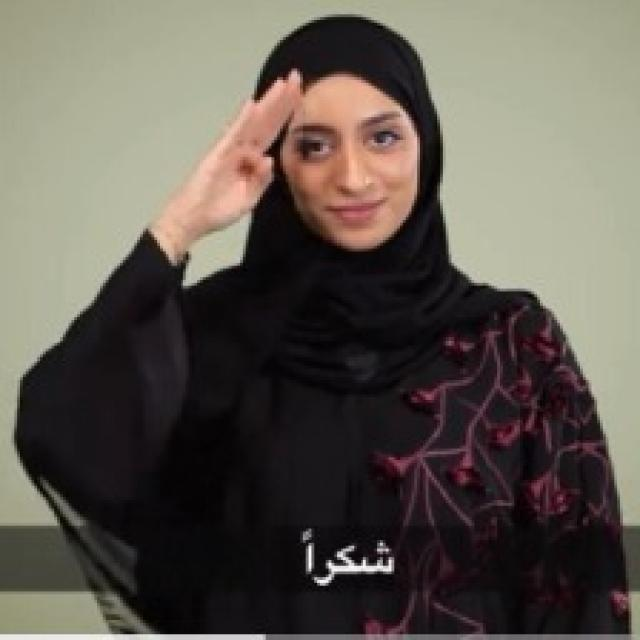Thanks: (168, 68, 309, 238)
